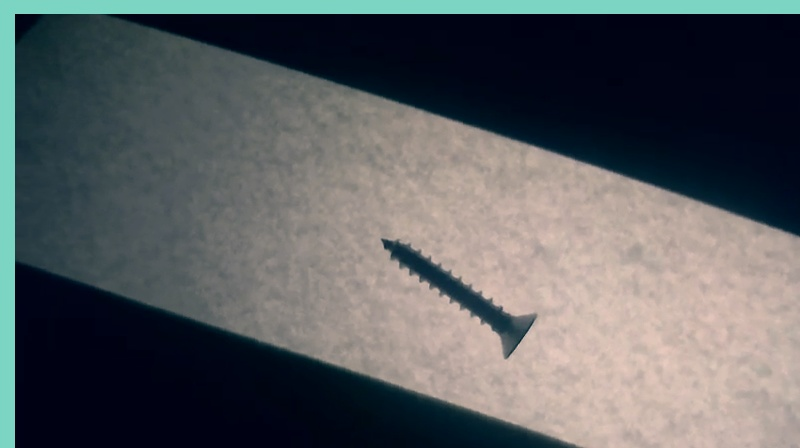S001: (377, 232, 538, 360)
